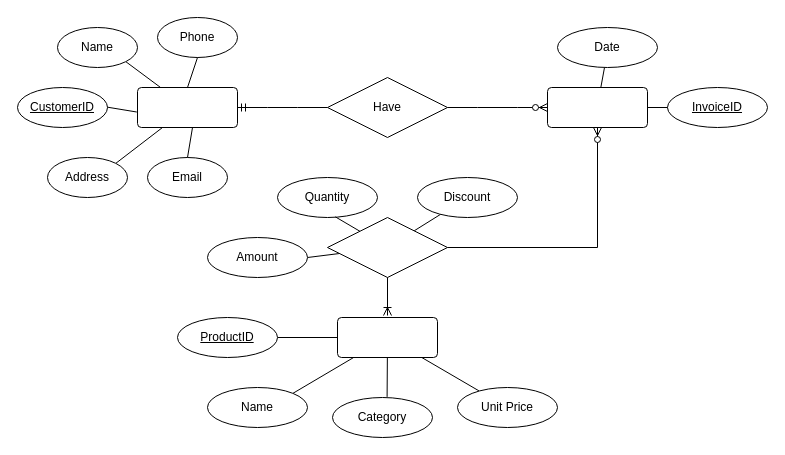
Some shapes in this 785 by 455 pixel diagram are drawn without their labels. Here are the shapes that lost their labels. From the top down, the box of each, then its label:
(136, 86, 238, 128): Customer
(546, 86, 648, 128): Invoice
(326, 216, 448, 278): Includes
(336, 316, 438, 358): Product
